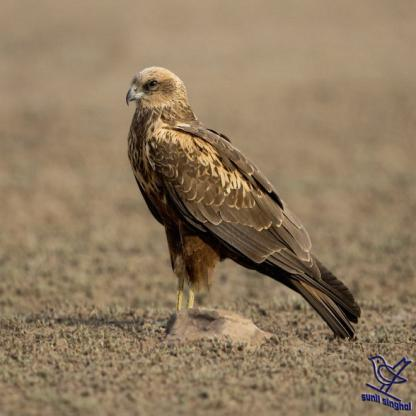Burung: (123, 66, 360, 340)
